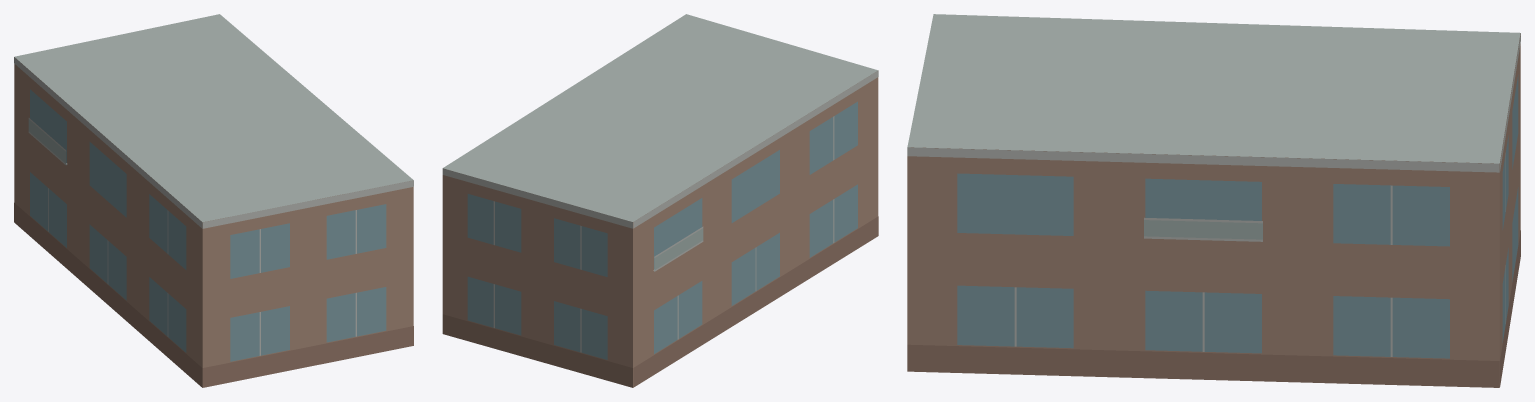
Rendered from survey-upis-33004280.glb.
3 renders of one model, left to right at view 1: azimuth 30°, elevation 25°; view 2: azimuth 150°, elevation 25°; view 3: azimuth 270°, elevation 25°, orthographic. The views are drawn at different scales.
Visible parts, largest first — view 1: survey-upis-33004280.tmp; view 2: survey-upis-33004280.tmp; view 3: survey-upis-33004280.tmp.
Boxes of the visible parts, x1=… form: survey-upis-33004280.tmp: x1=14, y1=14, x2=413, y2=387; survey-upis-33004280.tmp: x1=442, y1=14, x2=878, y2=387; survey-upis-33004280.tmp: x1=907, y1=14, x2=1520, y2=387.
Bounding box in the file's own units: 8.74 × 6.1 × 15.13.
